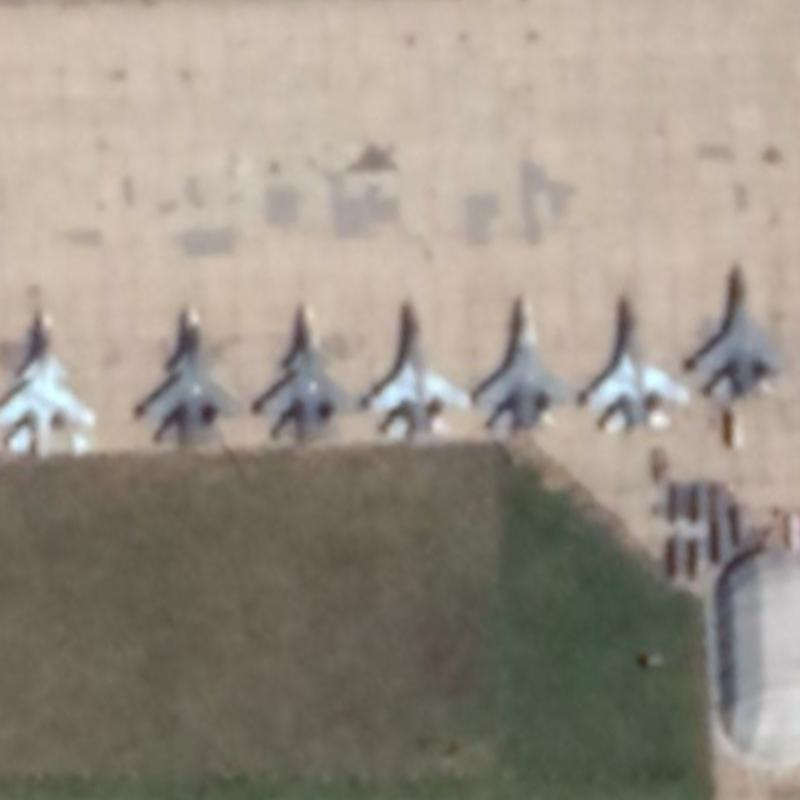A1: (363, 288, 471, 443), (581, 286, 692, 434), (473, 286, 575, 436), (691, 257, 790, 404)
A19: (135, 301, 245, 451), (251, 298, 355, 448), (0, 307, 98, 459)
